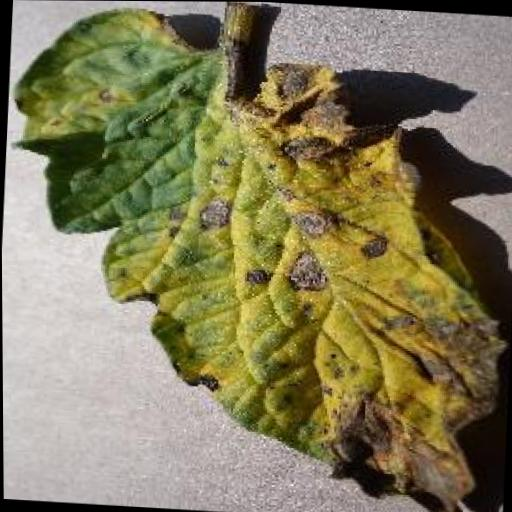Early Blight: (0, 1, 512, 512)
